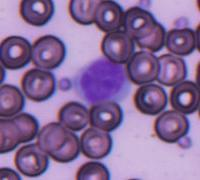L: (73, 56, 130, 106)
